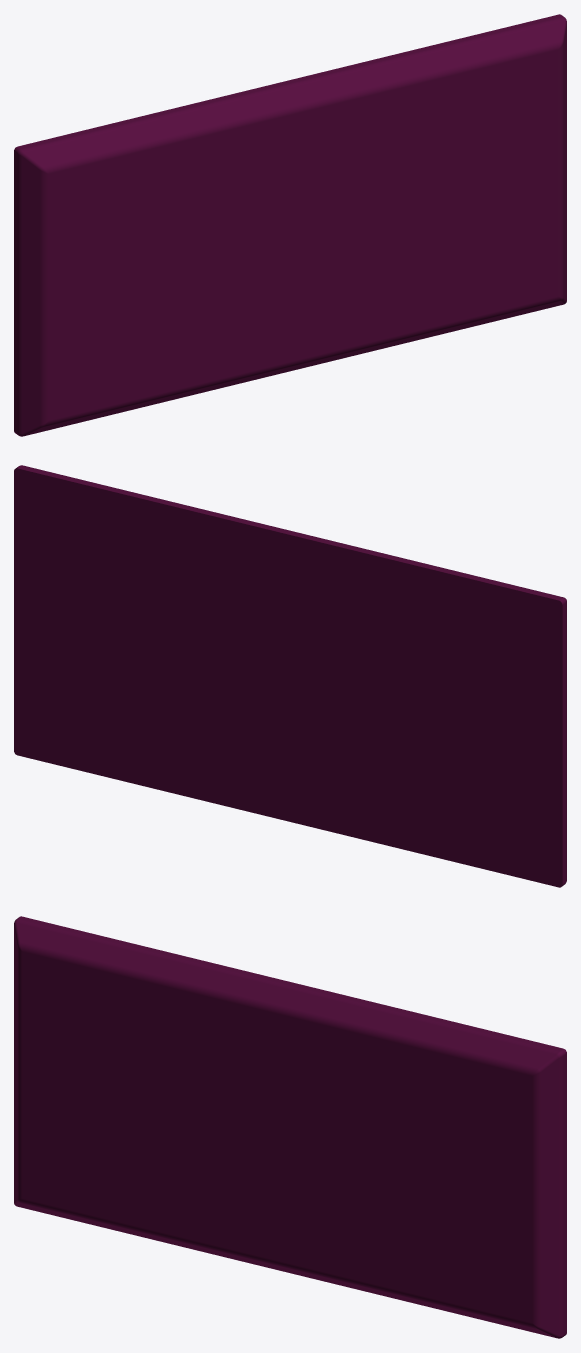
Rendered from purple-adv.fbx.
3 views of the same model, one above another, from view 1: azimuth 30°, elevation 25°; view 2: azimuth 150°, elevation 25°; view 3: azimuth 330°, elevation 25° (orthographic).
Visible parts, largest first — view 1: Body1; view 2: Body1; view 3: Body1.
Boxes of the visible parts, box(x1,y1,x2,y2) form: Body1: box(14, 14, 566, 436); Body1: box(14, 465, 566, 887); Body1: box(14, 916, 566, 1338).
Size of the model in its own units: 122 by 60.96 by 5.91.
